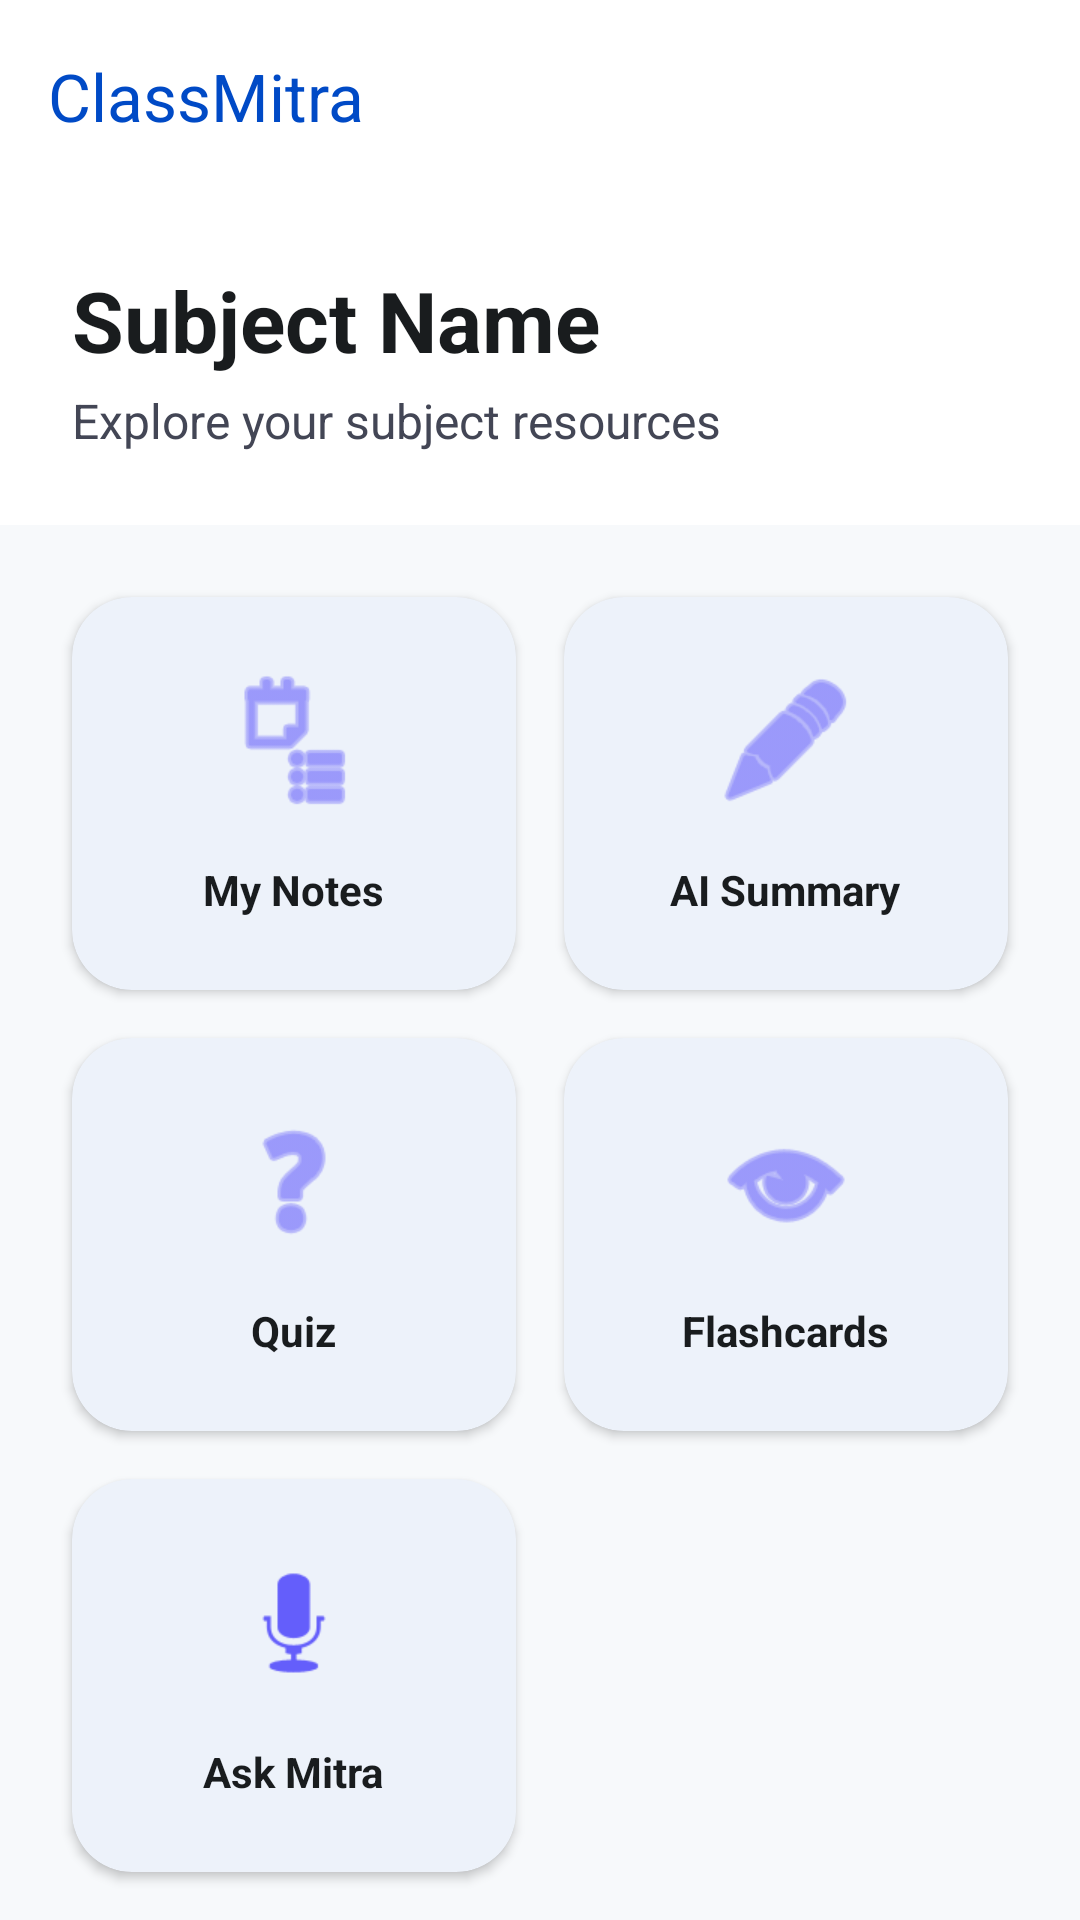

Screen size 1080*1920. Icon name, then its box in pixels as (x1, y1, x2, y2):
agenda: (244, 676, 345, 804)
edit: (725, 679, 846, 801)
help: (263, 1131, 325, 1233)
speak now: (262, 1573, 325, 1673)
view: (728, 1149, 844, 1222)
